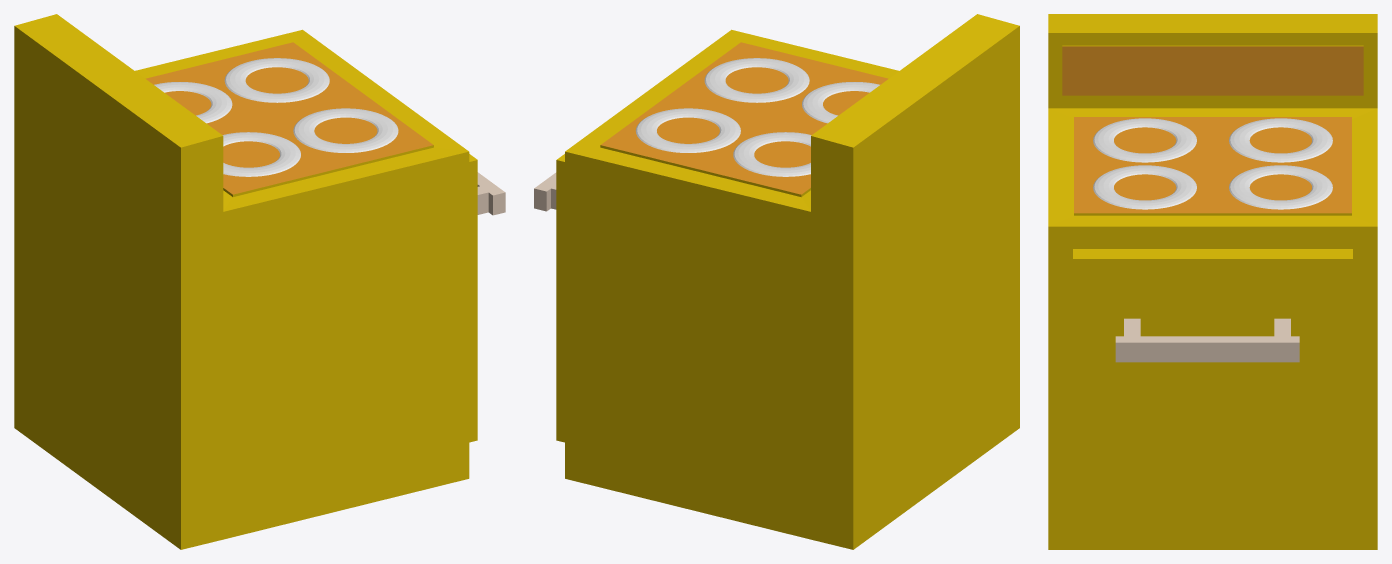
Rendered from Oven.fbx.
The picture shows the model from 3 angles, left to right: view 1: azimuth 30°, elevation 25°; view 2: azimuth 150°, elevation 25°; view 3: azimuth 270°, elevation 25°; orthographic projection.
Visible parts, largest first — view 1: Oven, HOB1, HOB2, Oven Handle; view 2: Oven, HOB1, HOB2, Oven Handle; view 3: Oven, Oven Handle, HOB1, HOB2.
Boxes of the visible parts, x1,y1,x2,y2 form: Oven: (14, 14, 477, 549); HOB1: (224, 58, 398, 152); HOB2: (154, 82, 300, 176); Oven Handle: (477, 172, 505, 215); Oven: (556, 14, 1019, 549); HOB1: (635, 58, 809, 152); HOB2: (733, 82, 879, 176); Oven Handle: (534, 172, 556, 211); Oven: (1048, 14, 1377, 549); Oven Handle: (1115, 318, 1299, 362); HOB1: (1093, 165, 1332, 209); HOB2: (1093, 118, 1332, 162).
Size of the model in its own units: 120 by 129 by 96.29.
